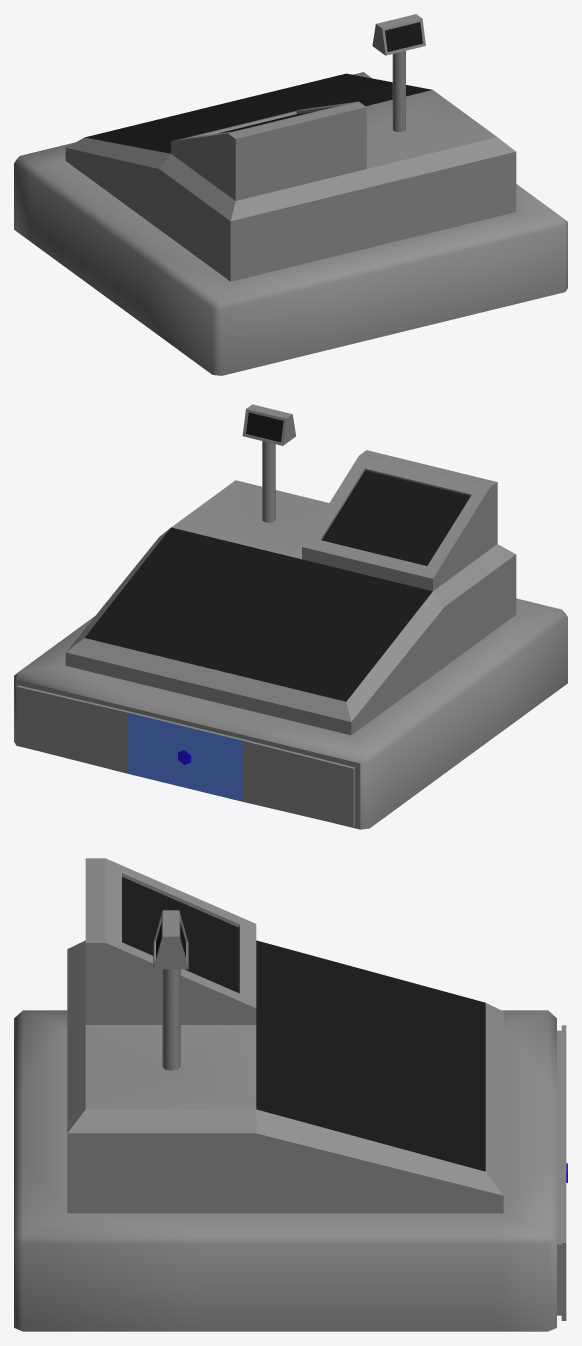
The model's file is Kassa.FBX.
3 views of the same model, one above another, from view 1: azimuth 30°, elevation 25°; view 2: azimuth 150°, elevation 25°; view 3: azimuth 270°, elevation 25° (orthographic). The views are drawn at different scales.
Parts seen in each view (by area): view 1: ChamferBox001; view 2: ChamferBox001; view 3: ChamferBox001.
Boxes of the visible parts, x1,y1,x2,y2 form: ChamferBox001: (14,14,567,375); ChamferBox001: (14,404,567,829); ChamferBox001: (14,858,567,1331).
Size of the model in its own units: 0.3 by 0.2043 by 0.306.
